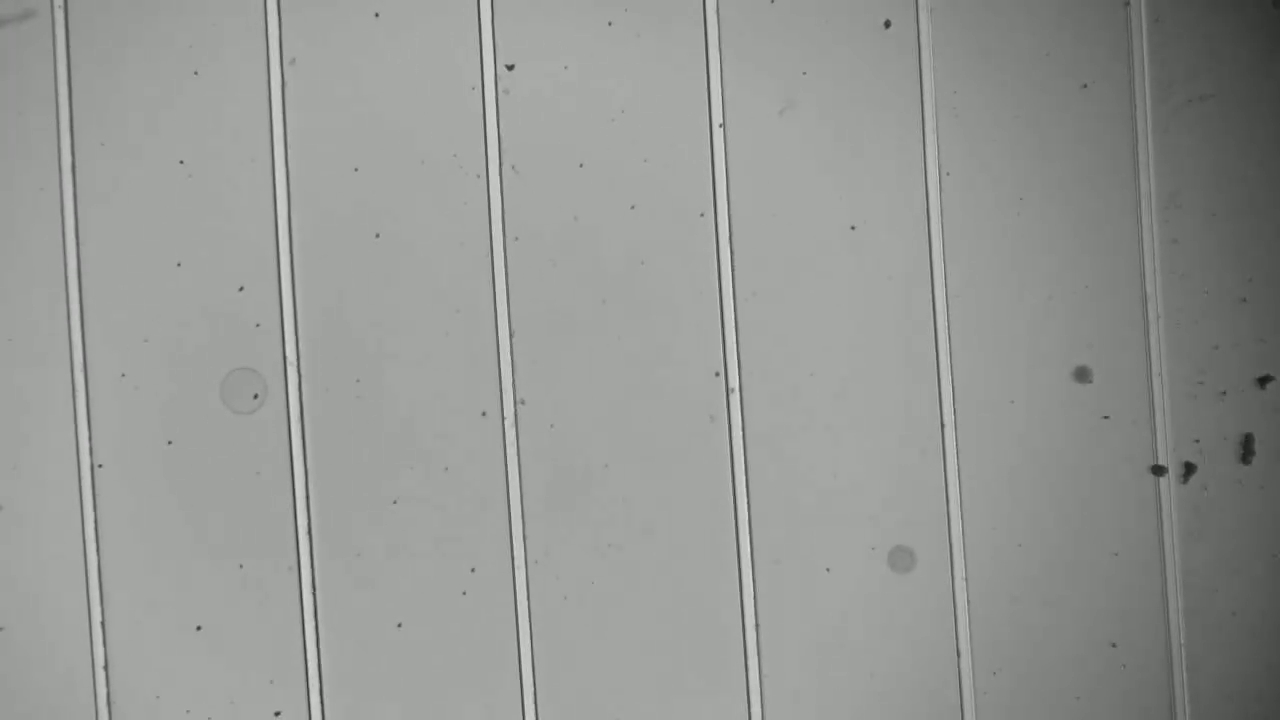stains_enbedded: (1147, 453, 1177, 486)
